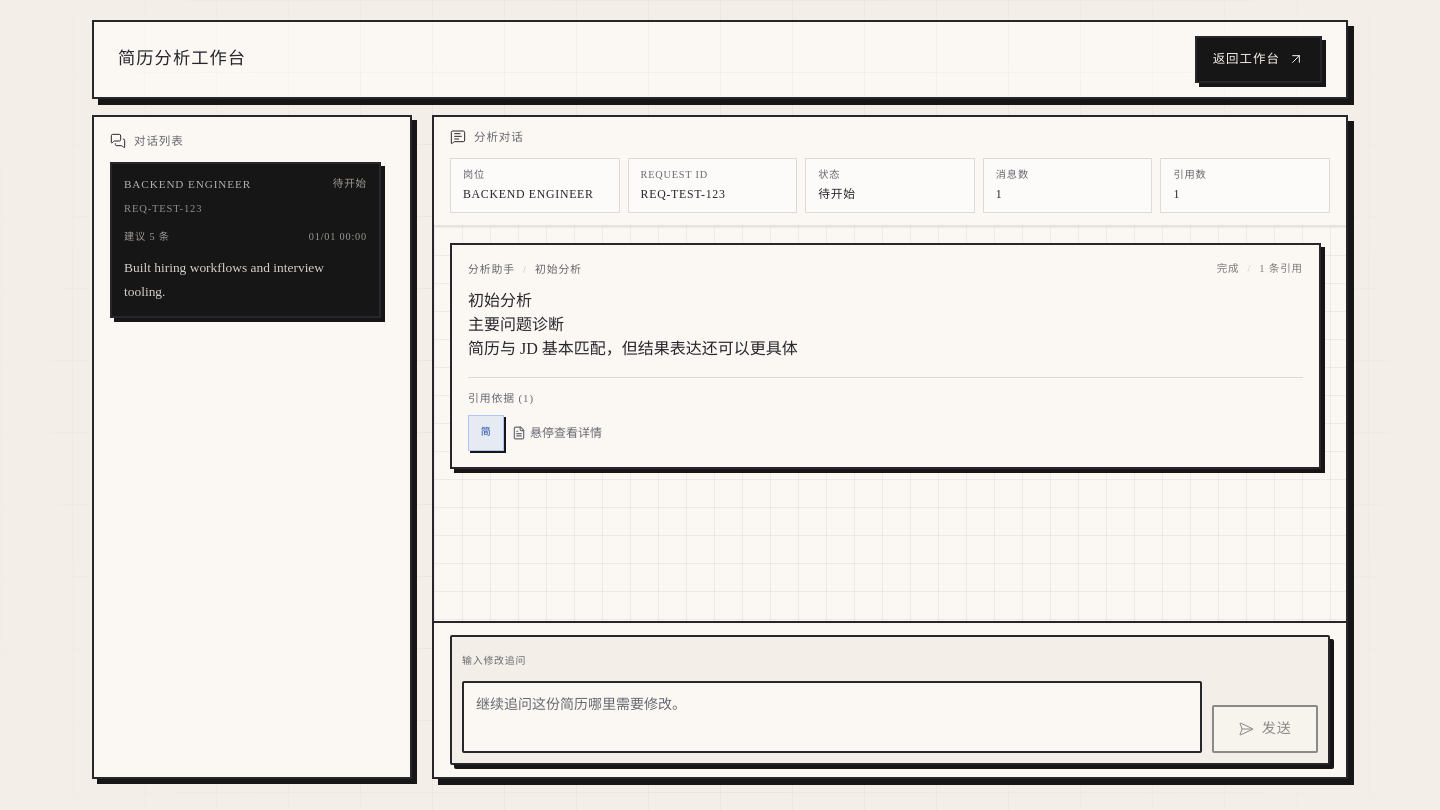
ResultsWorkspace › recovers the composer after a transport-level stream failure
This screenshot has width=1440, height=810.
Check: the heading "初始分析" is shown, box [468,292,532,309]
In the text box labelled "输入修改追问": (832, 717) [462,681,1202,753], type "请重点改写项目经历。"
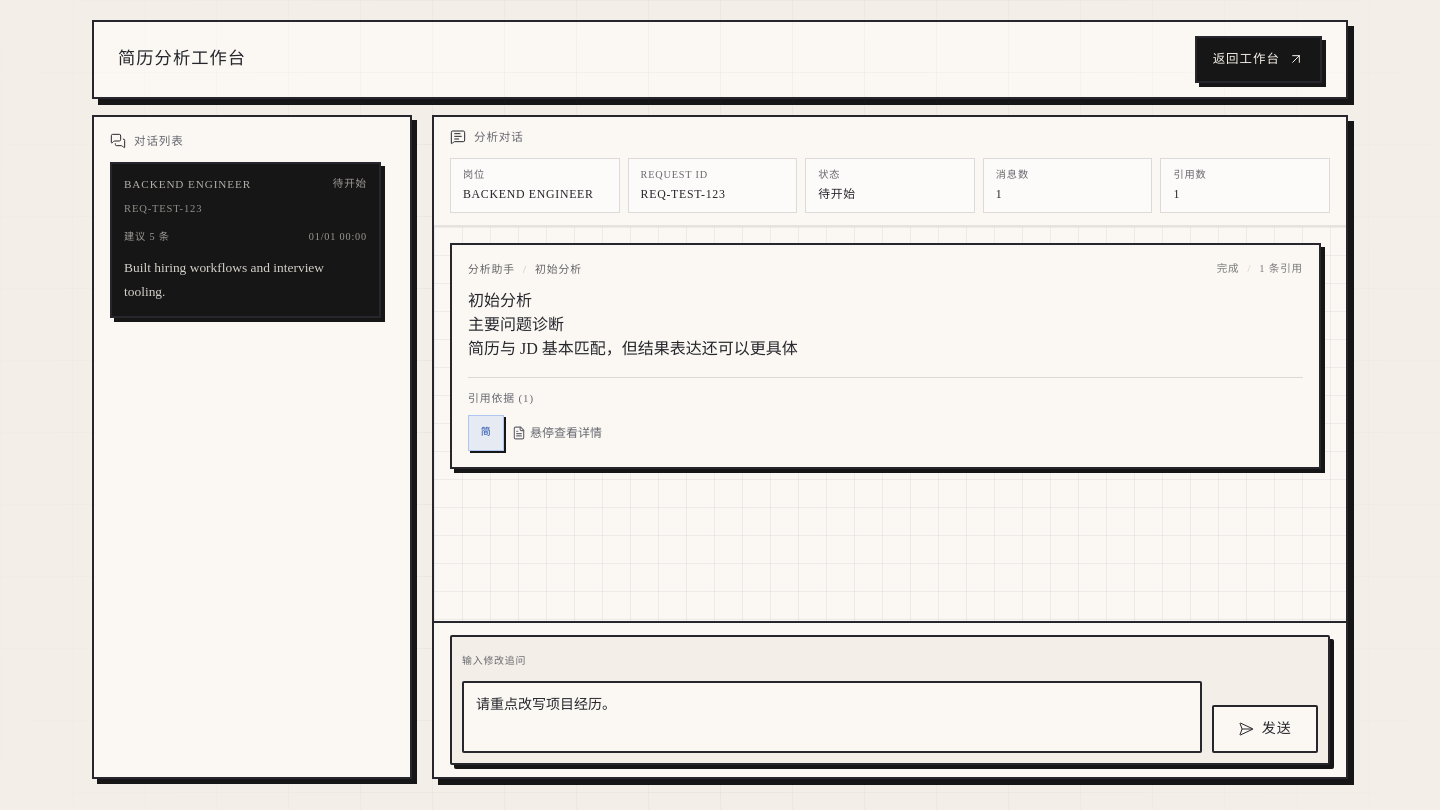
Click the button "发送": (1265, 729) [1212,705,1318,753]
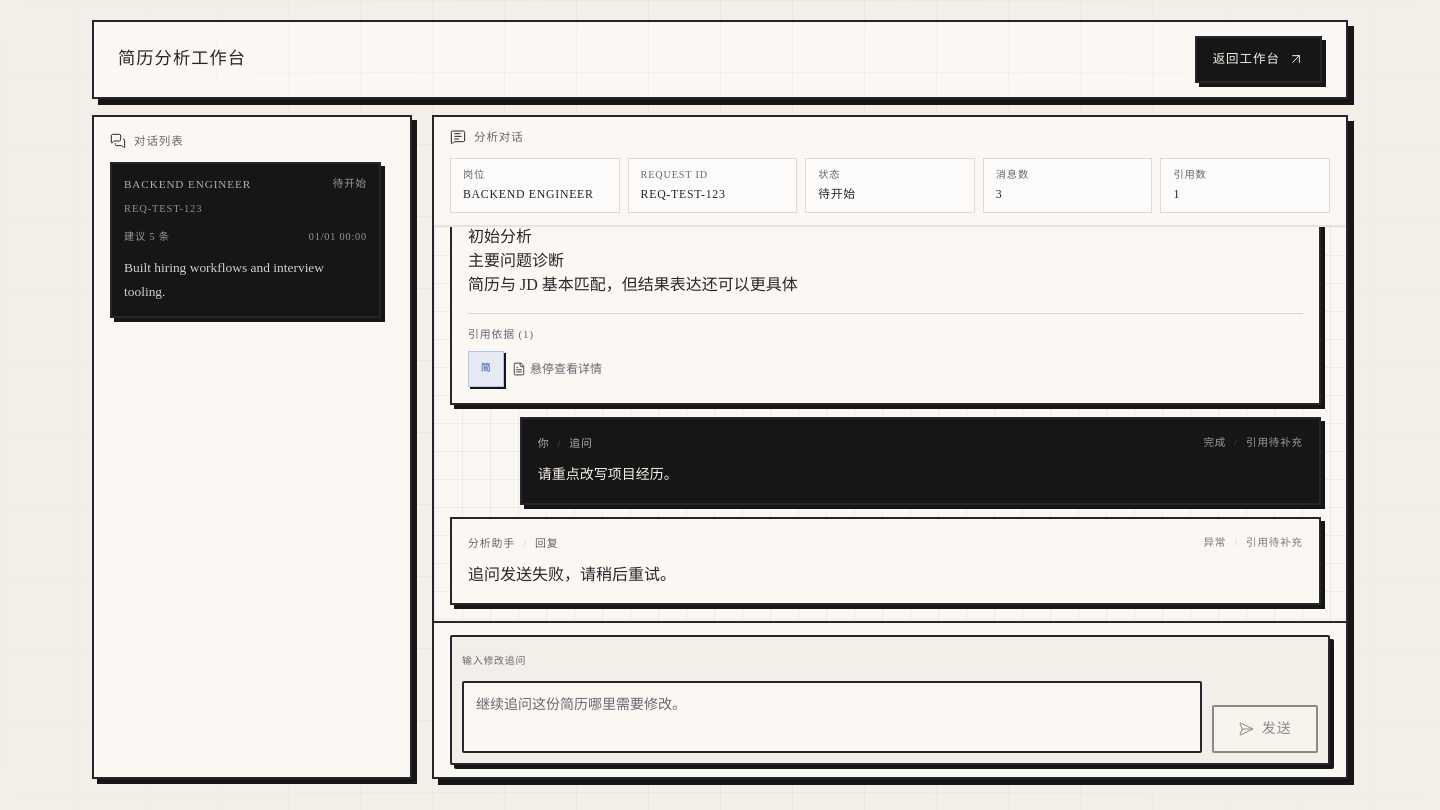
In the text box labelled "输入修改追问": (832, 717) [462,681,1202,753], type "请再给我一个改写版本。"
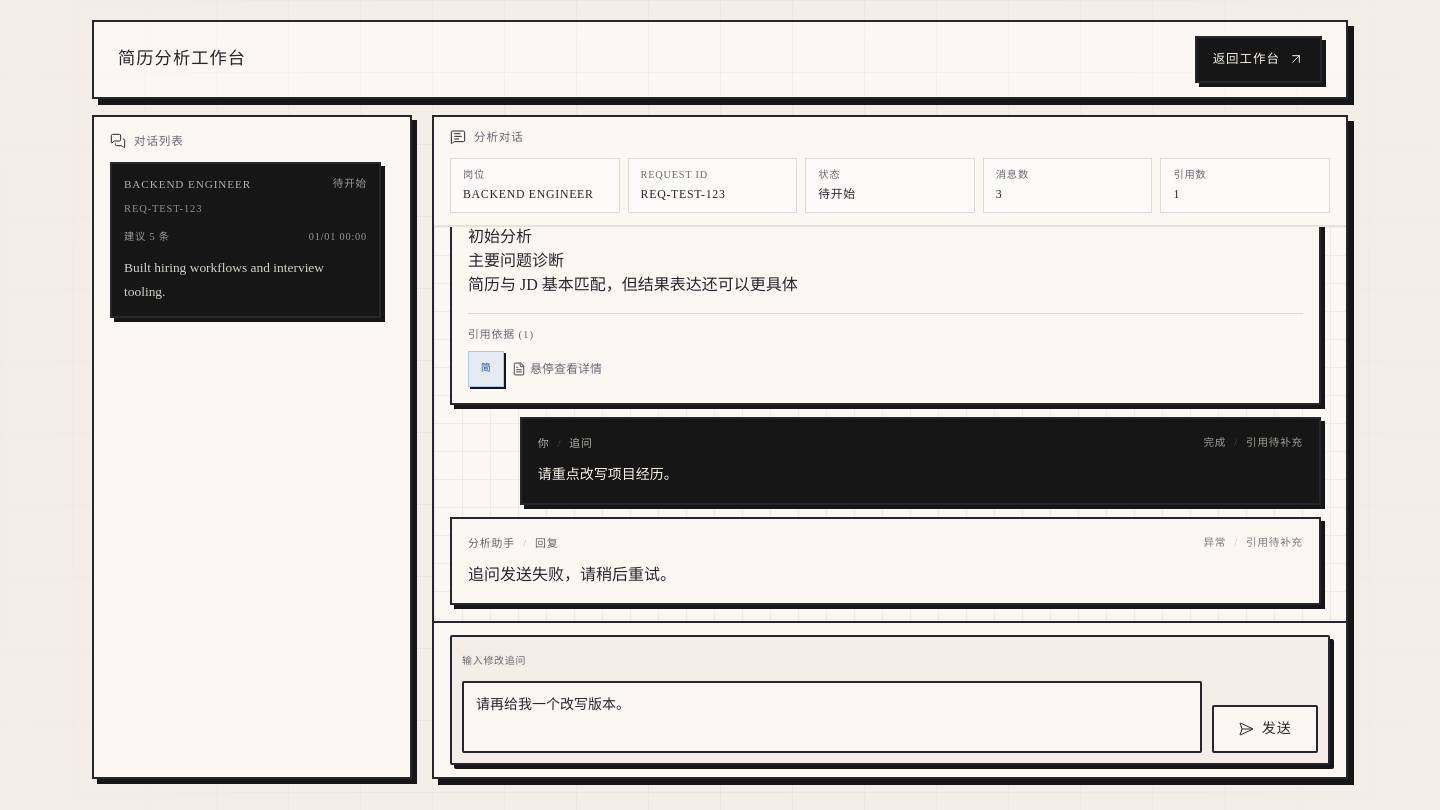
Check: the button "发送" is enabled, box [1212,705,1318,753]
